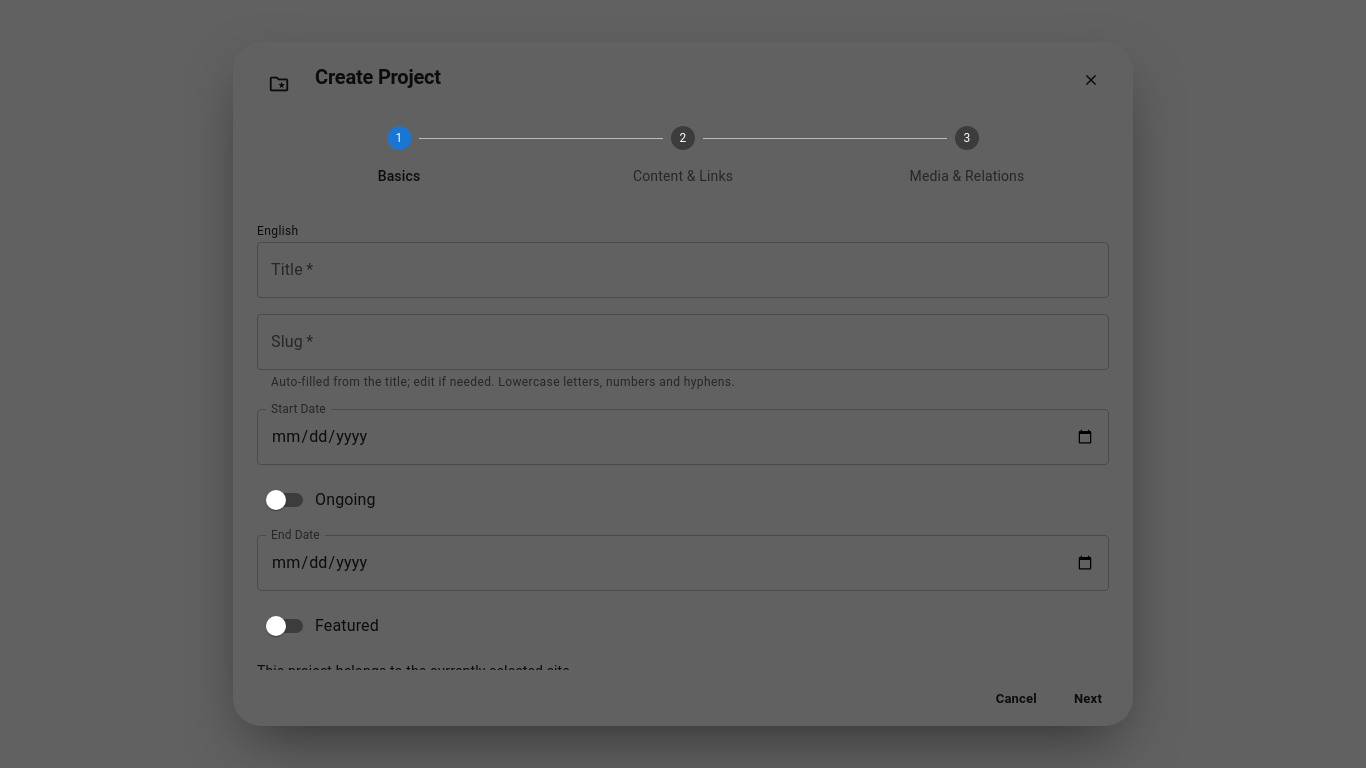
Test: ProjectWizard validation gating (#136) › lets the user recover by typing a valid slug, then advances
Type "Проект" into the field labelled "Title *" at (683, 270), box [257, 242, 1109, 298]
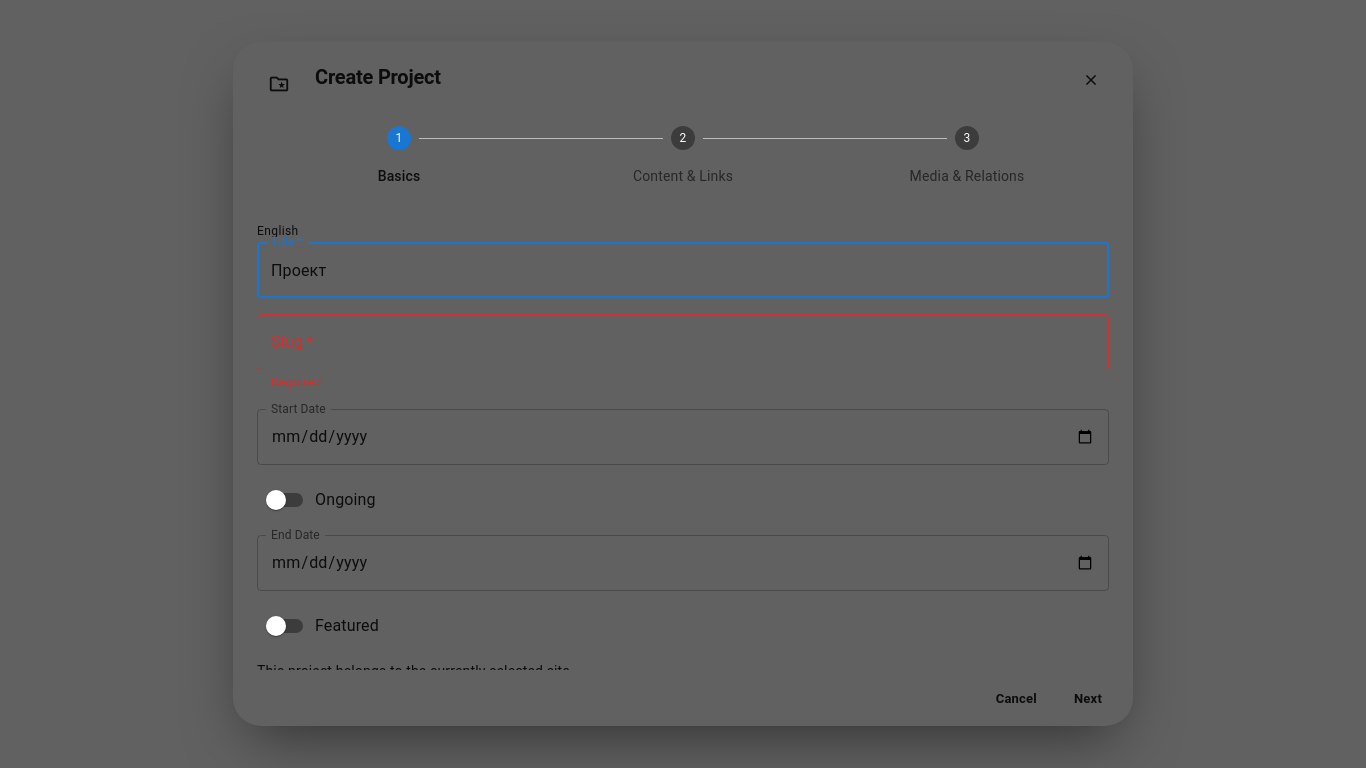
Type "my-project" into the field labelled "Slug *" at (683, 342), box [257, 314, 1109, 370]
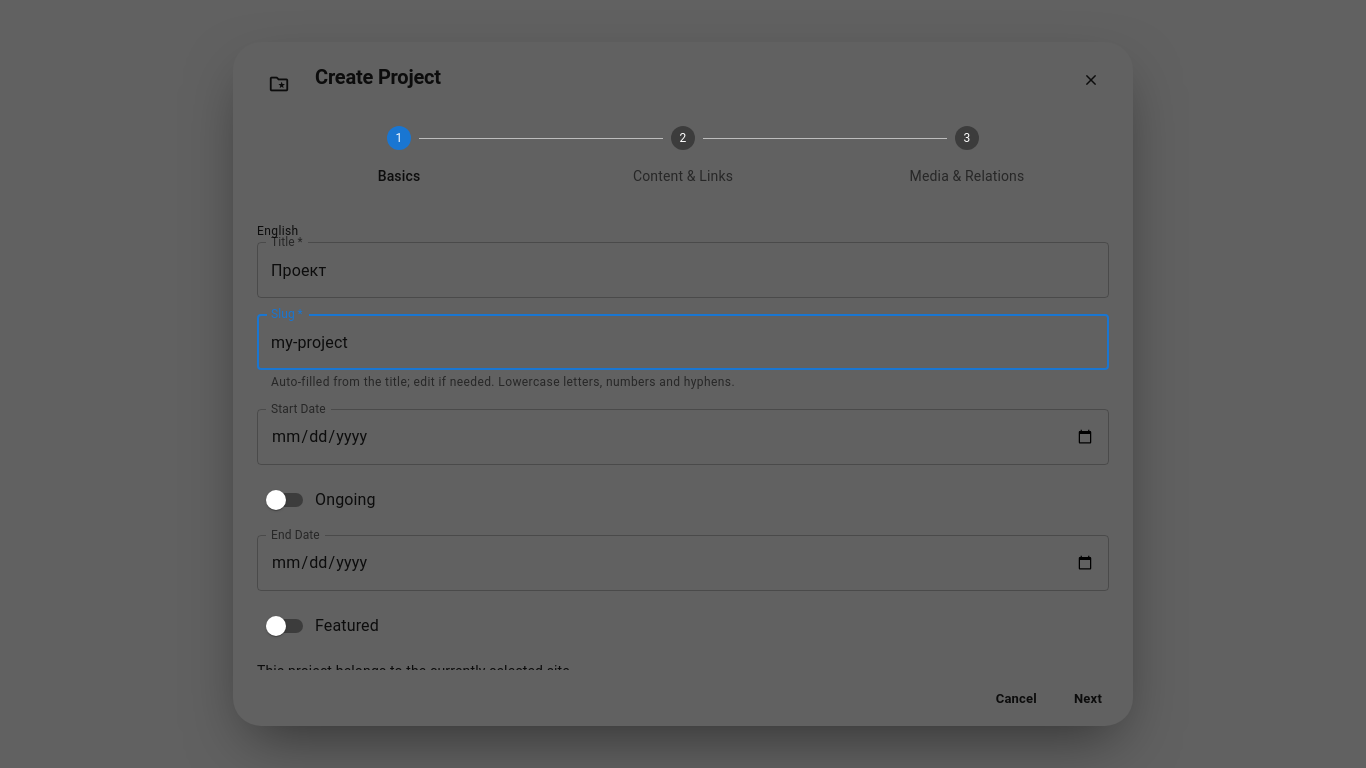
Click the button with test id "project-wizard.btn.next" at (1088, 698), box [1059, 682, 1117, 714]
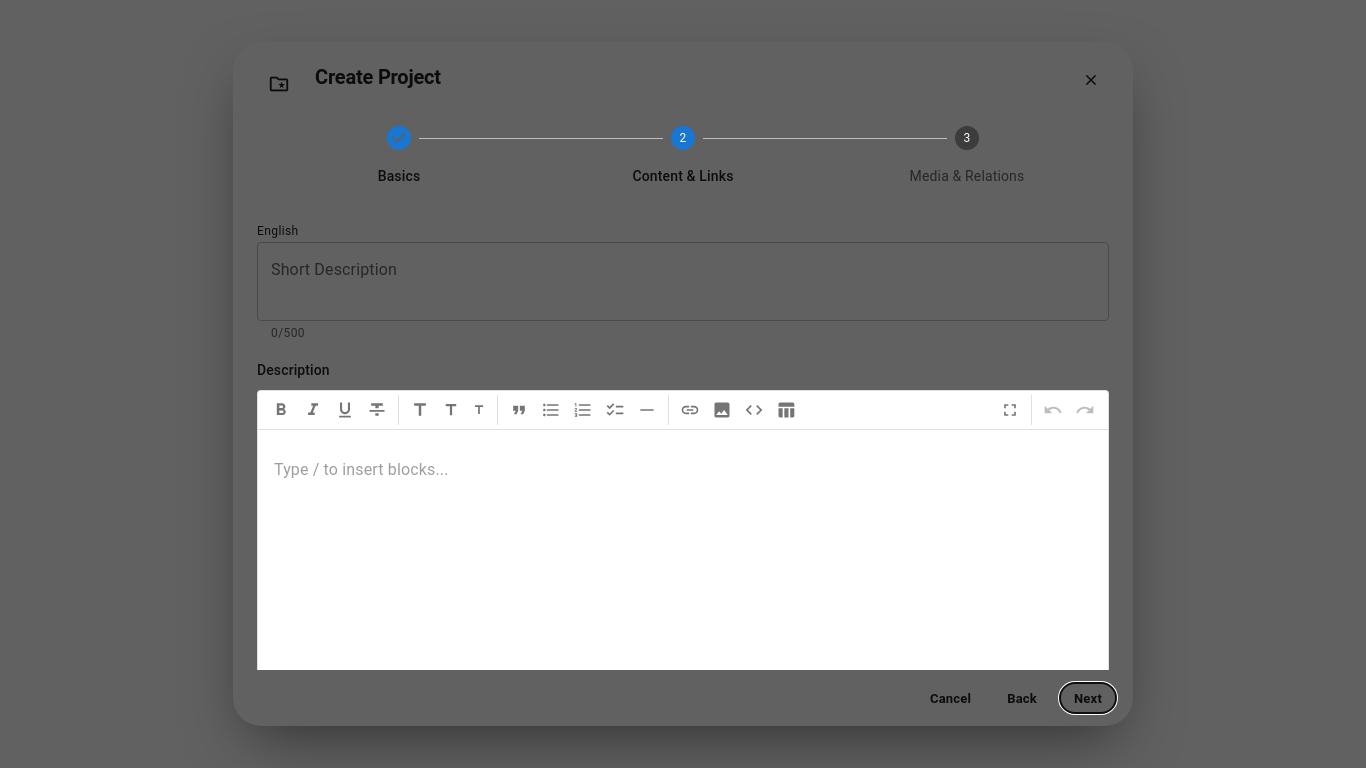
Now the date field with test id "project-wizard.field.start_date" is gone
